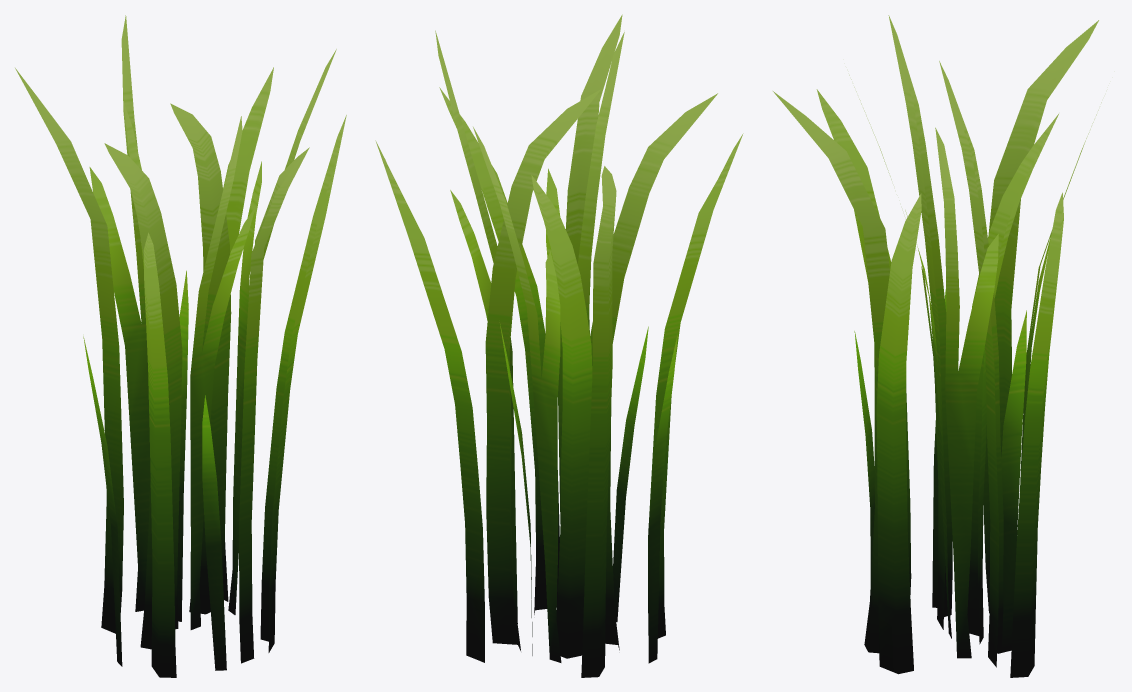
The model's file is Grass_Common_Tall.glb.
3 renders of one model, left to right at view 1: azimuth 30°, elevation 25°; view 2: azimuth 150°, elevation 25°; view 3: azimuth 270°, elevation 25°, orthographic. The views are drawn at different scales.
Parts seen in each view (by area): view 1: Grass_Common_Tall; view 2: Grass_Common_Tall; view 3: Grass_Common_Tall.
Boxes of the visible parts, x1,y1,x2,y2 form: Grass_Common_Tall: (15,15,346,677); Grass_Common_Tall: (375,14,743,677); Grass_Common_Tall: (773,15,1101,677).
Size of the model in its own units: 0.8951 by 1.87 by 0.9932.
1 material, 1 textured.
